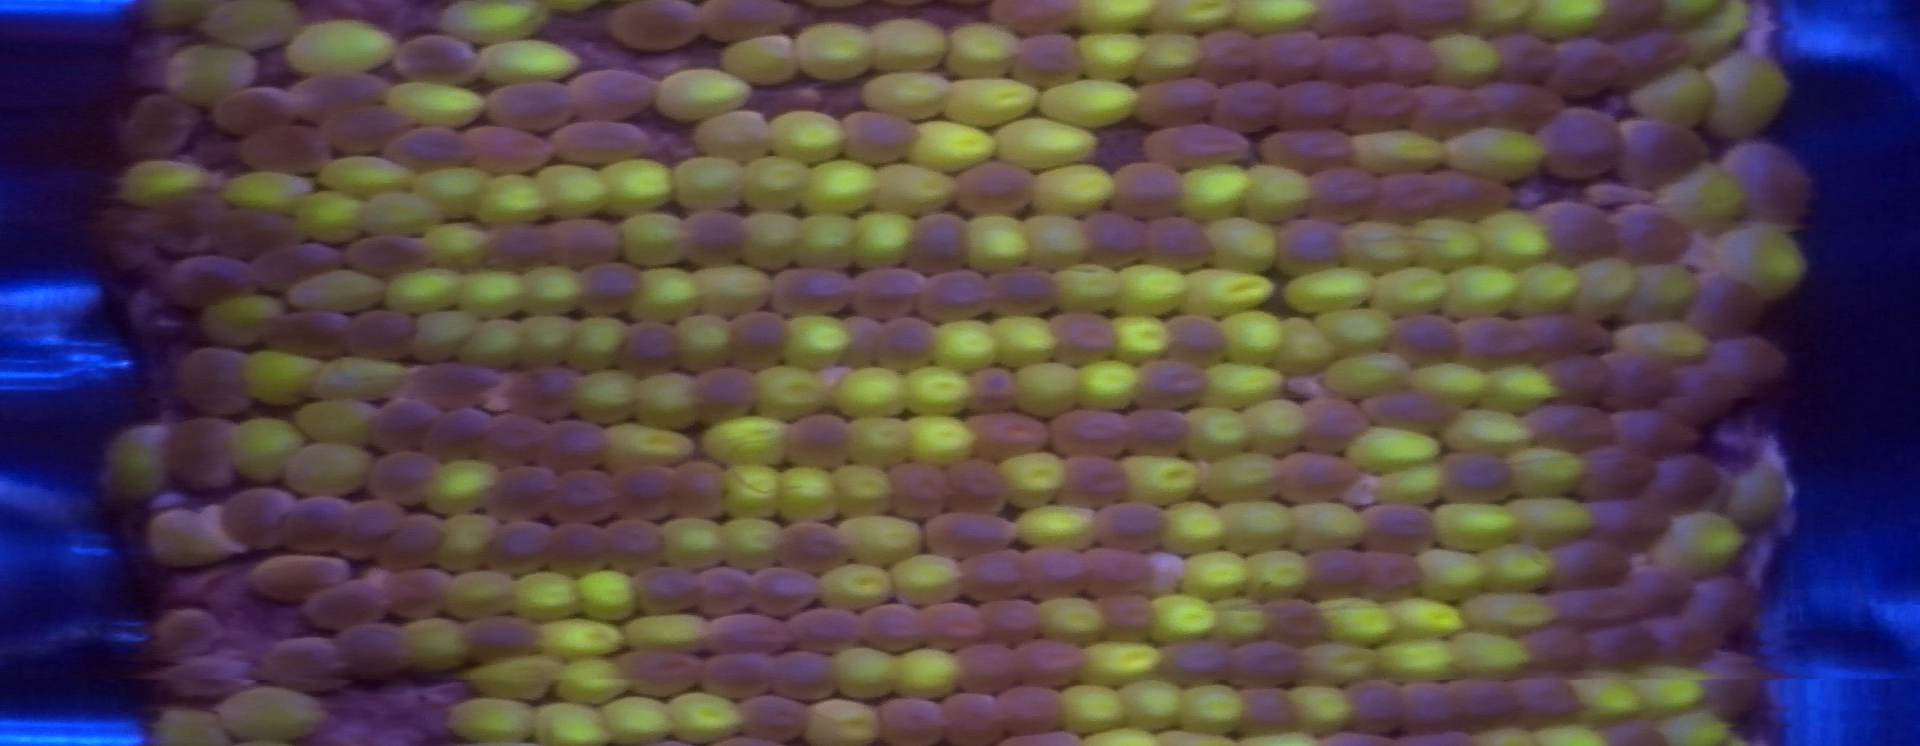fluorescent: (1723, 216, 1816, 301), (1704, 54, 1794, 140), (991, 116, 1107, 174), (1656, 510, 1747, 581), (165, 44, 260, 110), (1660, 163, 1747, 234), (1435, 127, 1551, 178), (285, 265, 393, 317), (113, 157, 220, 209), (1033, 76, 1142, 127), (649, 67, 762, 116), (100, 423, 169, 502), (1626, 60, 1713, 122), (208, 687, 324, 734), (793, 26, 887, 83), (196, 1, 302, 51), (1183, 267, 1284, 318), (861, 165, 962, 217), (802, 160, 884, 223), (1442, 402, 1533, 458), (384, 81, 491, 129), (309, 353, 415, 401), (287, 23, 392, 71), (1200, 217, 1283, 277), (1216, 499, 1300, 557), (909, 119, 1009, 168), (1024, 167, 1119, 218), (1429, 499, 1526, 549), (938, 26, 1024, 82), (143, 507, 229, 563), (838, 514, 931, 566), (231, 416, 301, 485), (1275, 265, 1374, 312), (1449, 624, 1538, 676), (1118, 453, 1201, 510), (673, 152, 747, 216), (1615, 318, 1716, 365), (945, 76, 1044, 122), (1476, 209, 1554, 268), (599, 156, 677, 214), (1447, 261, 1520, 325), (702, 416, 791, 468), (245, 347, 324, 404), (1353, 127, 1449, 175), (869, 16, 947, 75), (441, 1, 549, 43), (290, 443, 377, 495), (1567, 258, 1636, 323), (1502, 496, 1598, 543), (1015, 502, 1101, 554), (1020, 211, 1093, 271), (225, 168, 320, 214), (1682, 1, 1753, 62), (1480, 541, 1558, 598), (201, 293, 285, 344), (1319, 349, 1412, 396), (1309, 307, 1404, 353), (866, 69, 956, 116), (1464, 590, 1562, 635), (1178, 164, 1256, 219), (1629, 665, 1714, 715), (613, 606, 714, 649), (1413, 214, 1484, 274), (1378, 635, 1464, 684), (1010, 359, 1087, 414), (994, 450, 1067, 508), (789, 213, 863, 269), (618, 208, 686, 271), (1727, 463, 1789, 530), (768, 111, 853, 160), (400, 619, 476, 674), (1506, 443, 1591, 492), (889, 643, 962, 699), (1245, 160, 1315, 219), (742, 156, 812, 214), (882, 555, 967, 603), (721, 36, 804, 85), (411, 168, 495, 217), (1631, 258, 1695, 322), (931, 317, 1004, 372), (539, 614, 631, 658), (531, 699, 618, 746), (1381, 595, 1476, 638), (1164, 496, 1232, 556), (773, 465, 842, 523), (842, 410, 913, 467), (691, 263, 776, 310), (1122, 261, 1194, 316), (429, 457, 501, 512), (469, 661, 564, 703), (1236, 552, 1313, 604), (1207, 456, 1284, 507), (296, 394, 380, 441), (902, 415, 980, 465), (533, 165, 610, 216), (1053, 258, 1127, 311), (1569, 674, 1649, 722), (1368, 269, 1457, 312), (1417, 548, 1488, 601), (989, 314, 1060, 367), (851, 211, 916, 269), (740, 213, 804, 272), (1076, 356, 1142, 414), (831, 646, 899, 702), (605, 423, 696, 464), (665, 693, 748, 739), (516, 263, 587, 316), (802, 699, 887, 744), (1056, 684, 1131, 733), (560, 657, 632, 708), (1177, 551, 1256, 598), (478, 43, 582, 78), (636, 367, 696, 429), (454, 698, 538, 742), (295, 192, 370, 241), (1344, 217, 1416, 268), (1075, 33, 1146, 85), (1507, 260, 1575, 314), (366, 187, 440, 236), (422, 220, 492, 272), (828, 461, 891, 517), (1118, 677, 1183, 733), (1084, 639, 1167, 682), (1205, 363, 1288, 405), (1180, 405, 1251, 456), (782, 315, 850, 367), (1134, 29, 1206, 78), (1173, 685, 1247, 733), (1348, 428, 1440, 465), (1435, 31, 1501, 83), (906, 364, 972, 416), (836, 367, 907, 416), (658, 516, 729, 565), (444, 563, 516, 612), (818, 566, 901, 608), (606, 695, 673, 746), (1243, 401, 1311, 451), (509, 572, 585, 617), (1149, 594, 1222, 641), (479, 174, 550, 222), (1033, 598, 1112, 641), (1218, 311, 1283, 363), (387, 269, 467, 311), (579, 367, 639, 423), (1291, 501, 1362, 548), (1273, 316, 1335, 370), (756, 367, 823, 416), (441, 516, 502, 570), (726, 517, 789, 570), (322, 156, 418, 190), (459, 269, 528, 317), (1321, 597, 1393, 642), (967, 213, 1022, 272), (1412, 365, 1502, 401), (1369, 465, 1451, 505), (1300, 643, 1385, 681), (1484, 365, 1559, 408), (1109, 314, 1173, 364), (464, 318, 529, 367), (727, 464, 785, 519), (1211, 595, 1273, 646), (159, 706, 236, 746), (567, 316, 627, 367), (577, 571, 637, 622), (638, 268, 700, 316), (1286, 686, 1349, 733), (1532, 1, 1607, 40), (1234, 1, 1318, 36), (518, 315, 574, 365), (680, 314, 731, 367), (415, 310, 471, 358), (1657, 717, 1740, 746), (1173, 1, 1242, 33), (1656, 1, 1727, 32), (1090, 1, 1152, 34), (1464, 1, 1540, 28), (1524, 726, 1607, 746), (1084, 728, 1152, 746), (1473, 726, 1532, 746), (542, 1, 600, 12)
nonfluorescent: (1722, 138, 1818, 225), (1522, 107, 1621, 176), (1615, 115, 1711, 183), (1608, 200, 1698, 266), (202, 205, 302, 262), (598, 1, 709, 51), (227, 125, 338, 175), (1134, 212, 1222, 274), (118, 94, 200, 160), (481, 78, 582, 132), (1456, 315, 1558, 367), (1540, 538, 1641, 590), (474, 405, 552, 473), (169, 251, 262, 307), (282, 69, 394, 115), (1596, 348, 1679, 410), (209, 486, 298, 545), (178, 345, 256, 412), (253, 552, 351, 605), (301, 577, 397, 631), (245, 241, 349, 290), (462, 118, 556, 171), (954, 160, 1042, 218), (1669, 365, 1753, 425), (1538, 200, 1619, 262), (1441, 677, 1527, 736), (256, 307, 359, 356), (391, 37, 489, 88), (1250, 127, 1356, 175), (1584, 499, 1678, 552), (264, 635, 358, 688), (1689, 276, 1767, 339), (1522, 310, 1619, 361), (696, 647, 791, 698), (170, 416, 238, 489), (964, 409, 1056, 462), (538, 418, 613, 481), (1573, 442, 1659, 499), (544, 120, 656, 163), (978, 260, 1060, 318), (1130, 77, 1226, 127), (329, 626, 422, 677), (1698, 657, 1769, 724), (1145, 125, 1256, 168), (1275, 451, 1365, 503), (1164, 636, 1250, 691), (571, 67, 662, 119), (1551, 29, 1619, 99), (845, 266, 932, 320), (407, 363, 502, 412), (1431, 167, 1512, 224), (369, 447, 444, 508), (1611, 405, 1707, 453), (776, 265, 864, 316), (1517, 626, 1611, 674), (620, 647, 704, 699), (208, 83, 304, 130), (1340, 677, 1417, 735), (373, 124, 471, 169), (580, 261, 653, 322), (149, 608, 231, 661), (1111, 162, 1189, 218), (1469, 85, 1572, 127), (371, 394, 444, 454), (1644, 454, 1724, 510), (1374, 26, 1442, 89), (1690, 575, 1761, 636), (1641, 611, 1723, 664), (1610, 27, 1684, 86), (323, 104, 411, 153), (924, 510, 1025, 552), (722, 307, 789, 372), (96, 202, 160, 268), (1615, 563, 1695, 617), (1009, 32, 1089, 86), (1708, 334, 1791, 386), (1356, 548, 1439, 599), (1409, 85, 1485, 141), (1307, 167, 1384, 222), (418, 405, 495, 461), (680, 212, 752, 269), (1021, 541, 1093, 599), (152, 190, 239, 238), (1272, 219, 1351, 272), (902, 214, 970, 276), (381, 510, 449, 570), (1272, 81, 1358, 129), (541, 217, 624, 266), (1442, 450, 1520, 502), (1344, 85, 1425, 135), (1085, 209, 1152, 269), (557, 465, 624, 526), (1135, 360, 1213, 412), (911, 269, 993, 318), (785, 413, 856, 469), (492, 464, 563, 521), (1524, 405, 1615, 450), (1356, 393, 1457, 432), (329, 499, 402, 554), (462, 609, 545, 657), (284, 492, 348, 555), (493, 516, 560, 576), (1487, 34, 1560, 88), (1544, 347, 1618, 401), (840, 111, 918, 162), (1296, 544, 1370, 597), (887, 464, 954, 522), (955, 642, 1029, 695), (1375, 168, 1444, 224), (948, 458, 1016, 514), (1389, 315, 1469, 363), (1211, 78, 1281, 134), (936, 691, 1005, 746), (1058, 452, 1129, 506), (1550, 584, 1642, 626), (704, 610, 796, 652), (1229, 642, 1311, 688), (876, 696, 951, 746), (349, 309, 421, 361), (1296, 399, 1369, 451), (738, 692, 816, 741), (1091, 588, 1161, 642), (336, 234, 429, 274), (1164, 312, 1236, 365), (549, 519, 620, 572), (876, 316, 942, 372), (773, 521, 849, 570), (769, 648, 841, 699), (1011, 635, 1084, 686), (633, 563, 703, 616), (1085, 544, 1155, 597), (1052, 412, 1135, 456), (1096, 499, 1171, 548), (996, 681, 1067, 733), (1577, 620, 1657, 665), (1387, 677, 1461, 726), (1509, 677, 1586, 724), (389, 563, 454, 619), (485, 222, 560, 269), (523, 363, 585, 419), (602, 516, 666, 571), (1051, 312, 1120, 363), (1198, 28, 1262, 82), (1259, 29, 1329, 78), (1319, 36, 1389, 85), (858, 603, 928, 652), (1356, 503, 1433, 548), (790, 605, 864, 650), (702, 1, 800, 36), (1130, 405, 1195, 457), (620, 320, 680, 375), (620, 467, 680, 522), (696, 366, 758, 419), (1269, 599, 1338, 646), (751, 563, 817, 612), (966, 552, 1040, 597), (672, 461, 726, 521), (989, 1, 1086, 34), (693, 568, 759, 616), (920, 603, 986, 650), (835, 310, 887, 371), (1379, 1, 1480, 31), (1237, 685, 1299, 733), (978, 597, 1042, 642), (967, 367, 1022, 412), (1600, 1, 1660, 40), (1307, 1, 1382, 32), (1596, 719, 1671, 746), (1321, 731, 1395, 746)
